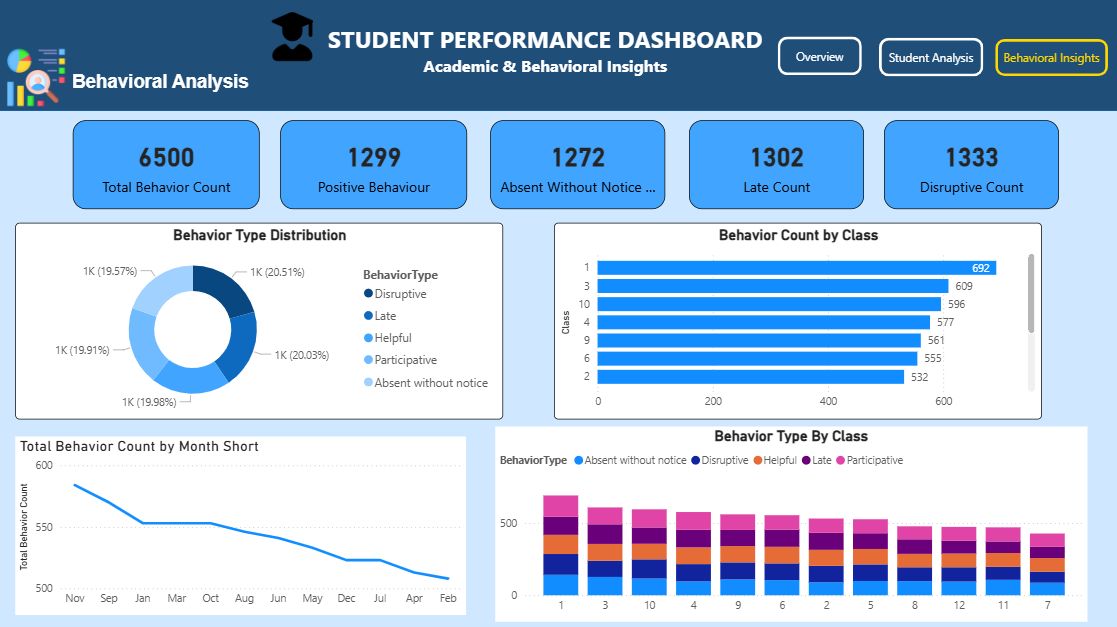

The dashboard page shown, as its layout file describes it:
{"tool":"powerbi","page":{"name":"Behavioral Insights","canvas":[1280,720],"ordinal":2},"visuals":[{"type":"shape","box":[0,0,1365,128.3],"z":0},{"type":"card","title":"Total Students","fields":{"Values":["Measures Table.Total Behavior Count"]},"box":[84.6,138.5,213.5,101.9],"z":1000},{"type":"card","title":"Total Students","fields":{"Values":["Measures Table.Positive Behaviour Count"]},"box":[321.2,138.5,213.5,101.9],"z":2000},{"type":"card","title":"Total Students","fields":{"Values":["Measures Table.Absent Without Notice Count"]},"box":[561.5,138.5,200,101.9],"z":3000},{"type":"card","title":"Total Students","fields":{"Values":["Measures Table.Late Count"]},"box":[788.5,138.5,200,101.9],"z":4000},{"type":"card","title":"Total Students","fields":{"Values":["Measures Table.Disruptive Count"]},"box":[1011.5,138.5,200,101.9],"z":5000},{"type":"donutChart","title":"Behavior Type Distribution","fields":{"Category":["Behavior.BehaviorType"],"Y":["Measures Table.Total Behavior Count"]},"box":[19.2,255.8,557.7,225],"z":6000},{"type":"clusteredBarChart","title":"Behavior Count by Class","fields":{"Category":["Students.Class"],"Y":["Measures Table.Total Behavior Count"]},"box":[634.6,255.8,557.7,225],"z":7000},{"type":"lineChart","fields":{"Category":["Behavior.Month Short"],"Y":["Measures Table.Total Behavior Count"]},"box":[19.2,500,515.4,203.8],"z":8000},{"type":"columnChart","title":"Behavior Type By Class","fields":{"Category":["Students.Class"],"Series":["Behavior.BehaviorType"],"Y":["Measures Table.Total Behavior Count"]},"box":[567.3,488.5,676.9,223.1],"z":9000},{"type":"textbox","box":[359.6,23.1,528.8,80.8],"z":10000},{"type":"actionButton","box":[890.4,42.3,96.2,44.2],"z":10001},{"type":"actionButton","box":[1005.8,44.2,119.2,44.2],"z":10002},{"type":"actionButton","box":[1138.5,46.2,128.8,42.3],"z":10003},{"type":"textbox","box":[68.3,76.7,231.7,46.7],"z":10004},{"type":"image","box":[0,55,85,68.3],"z":10005},{"type":"image","box":[293.3,8.3,85,68.3],"z":10006}]}

Visuals, with their boxes in screenshot pixels (x1, y1, x2, y2), scaled from the page's 1280x720 canvas onto the 1117x627 screenshot:
shape: box(0, 0, 1116, 112)
"Total Students" card: box(74, 121, 260, 209)
"Total Students" card: box(280, 121, 467, 209)
"Total Students" card: box(490, 121, 665, 209)
"Total Students" card: box(688, 121, 863, 209)
"Total Students" card: box(883, 121, 1057, 209)
"Behavior Type Distribution" donutChart: box(17, 223, 503, 419)
"Behavior Count by Class" clusteredBarChart: box(554, 223, 1040, 419)
lineChart - Behavior.Month Short x Measures Table.Total Behavior Count: box(17, 435, 467, 613)
"Behavior Type By Class" columnChart: box(495, 425, 1086, 620)
textbox: box(314, 20, 775, 90)
actionButton: box(777, 37, 861, 75)
actionButton: box(878, 38, 982, 77)
actionButton: box(994, 40, 1106, 77)
textbox: box(60, 67, 262, 107)
image: box(0, 48, 74, 107)
image: box(256, 7, 330, 67)
